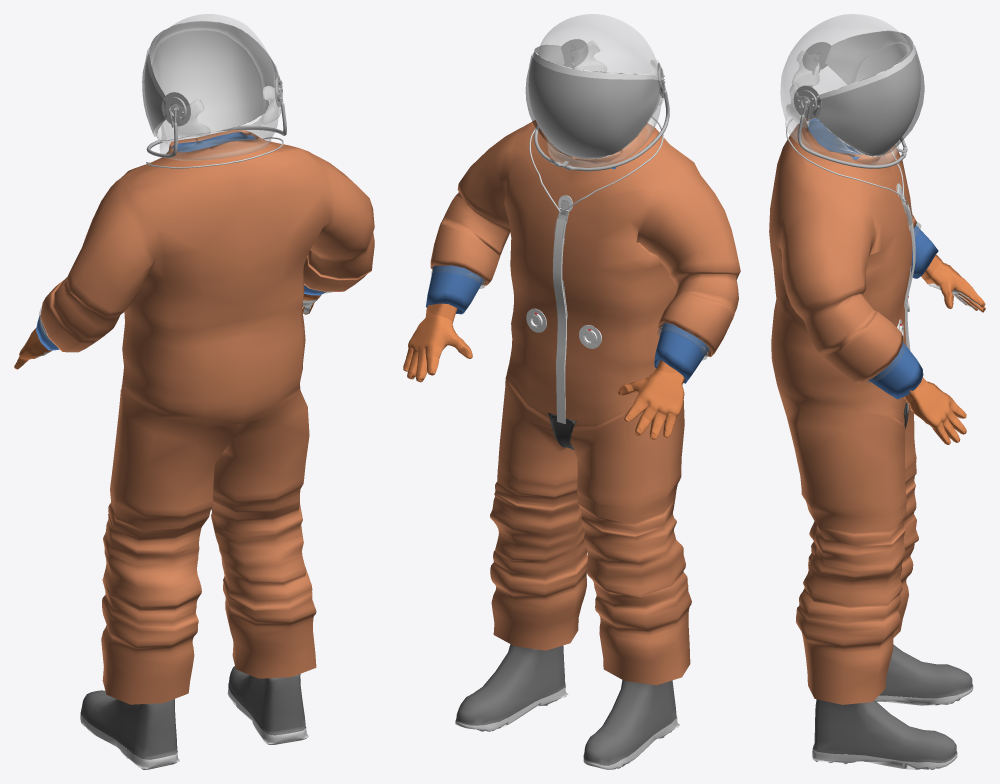
Rendered from crew-escape-suit-web.glb.
3 views of the same model, side by side, from view 1: azimuth 30°, elevation 25°; view 2: azimuth 150°, elevation 25°; view 3: azimuth 270°, elevation 25° (orthographic). The views are drawn at different scales.
Parts seen in each view (by area): view 1: Advanced Crew Escape Suit; view 2: Advanced Crew Escape Suit; view 3: Advanced Crew Escape Suit.
Boxes of the visible parts, x1,y1,x2,y2 form: Advanced Crew Escape Suit: (14, 14, 374, 769); Advanced Crew Escape Suit: (403, 14, 740, 769); Advanced Crew Escape Suit: (769, 14, 985, 769).
Bounding box in the file's own units: 0.8871 × 2 × 0.5549.
Materials: 2 (2 with a texture image).
